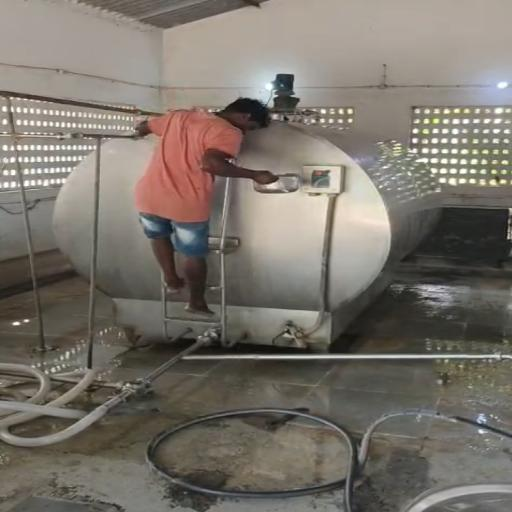silo: (52, 109, 447, 351)
vessel: (253, 174, 301, 194)
